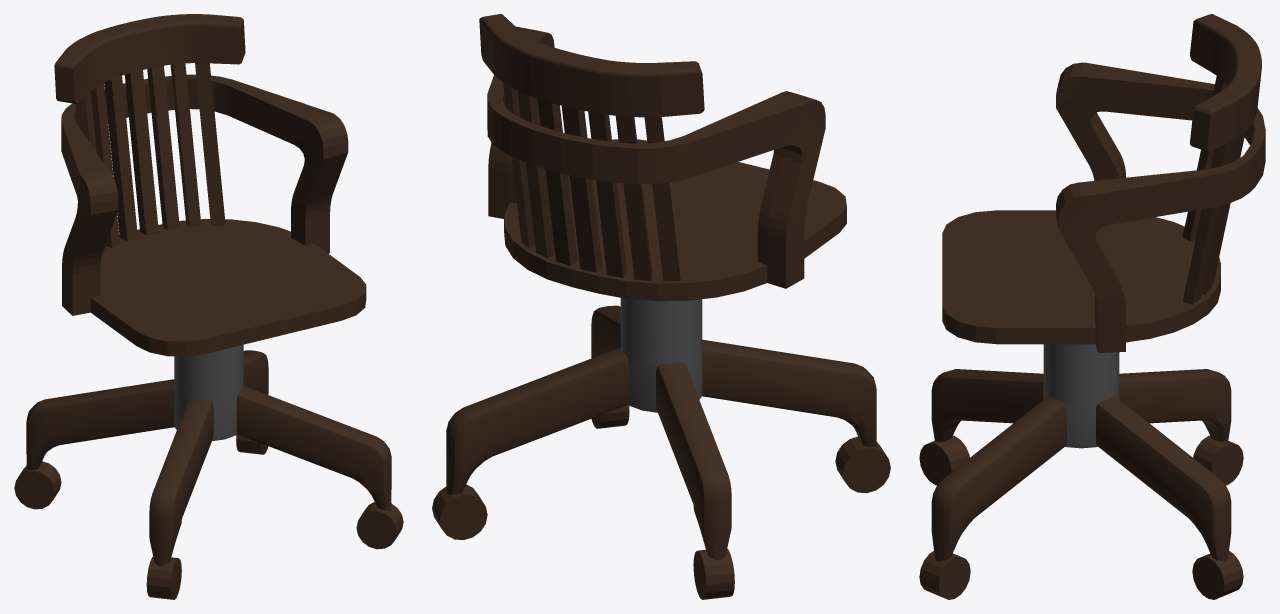
File: swivelchair.fbx
3 renders of one model, left to right at view 1: azimuth 30°, elevation 25°; view 2: azimuth 150°, elevation 25°; view 3: azimuth 270°, elevation 25°, orthographic. The views are drawn at different scales.
Visible parts, largest first — view 1: chair; view 2: chair; view 3: chair.
Part boxes in pixels (<box>): chair: <box>14,14,403,599</box>; chair: <box>432,14,890,599</box>; chair: <box>919,14,1265,599</box>.
Bounding box in the file's own units: 93.43 × 153 × 101.
